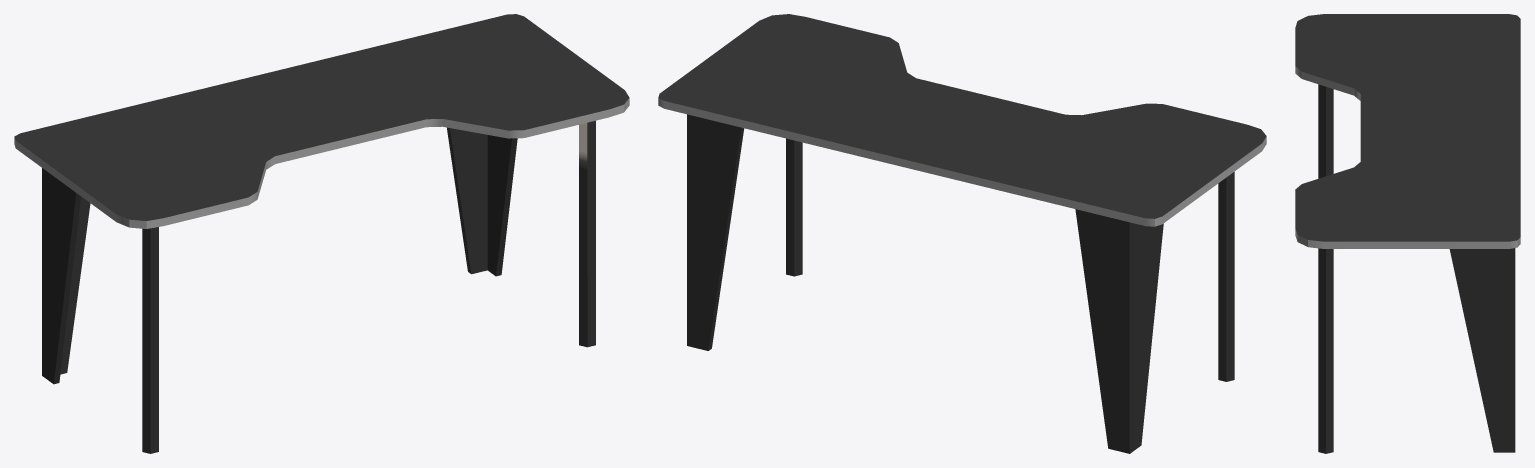
Rendered from Escritorio.fbx.
3 views of the same model, side by side, from view 1: azimuth 30°, elevation 25°; view 2: azimuth 150°, elevation 25°; view 3: azimuth 270°, elevation 25° (orthographic). The views are drawn at different scales.
Visible parts, largest first — view 1: Escritorio; view 2: Escritorio; view 3: Escritorio.
Boxes of the visible parts, x1,y1,x2,y2 form: Escritorio: [14, 14, 629, 453]; Escritorio: [658, 14, 1266, 453]; Escritorio: [1295, 14, 1520, 453].
Bounding box in the file's own units: 189 × 86.79 × 78.89.
